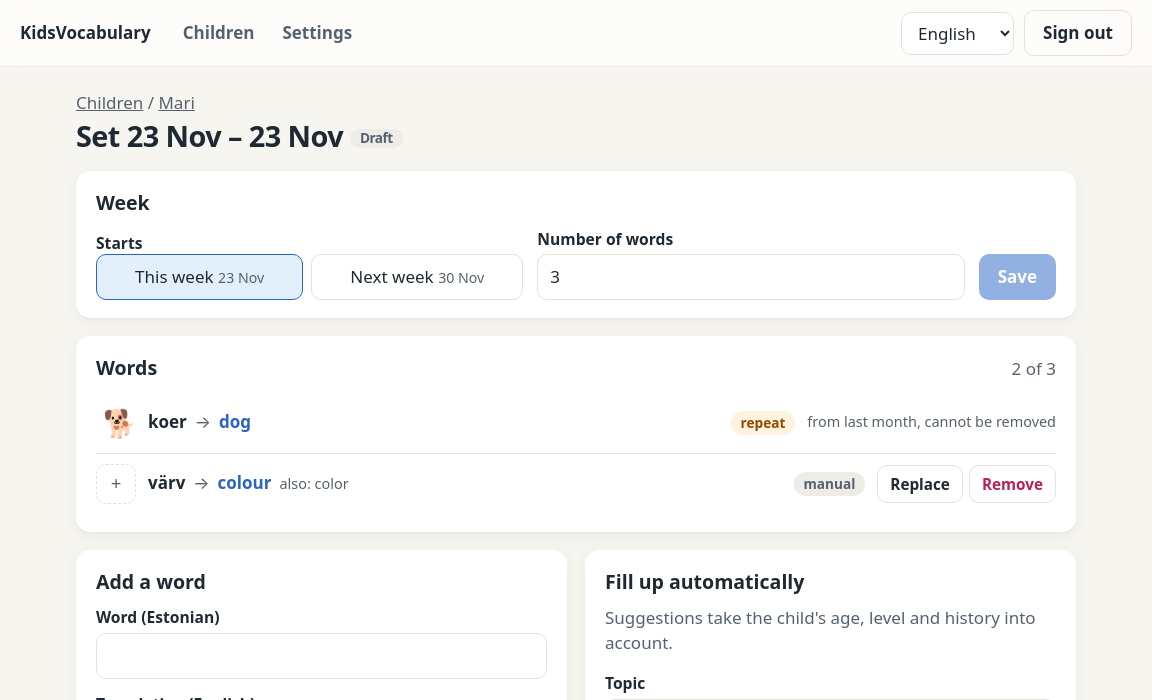
Scenario: App › week builder › adds a word with extra spellings and then allows launching
Type "hall" into the field labelled "Word (Estonian)" at {"x": 322, "y": 656}, box [96,633,547,679]
(page scrolled)
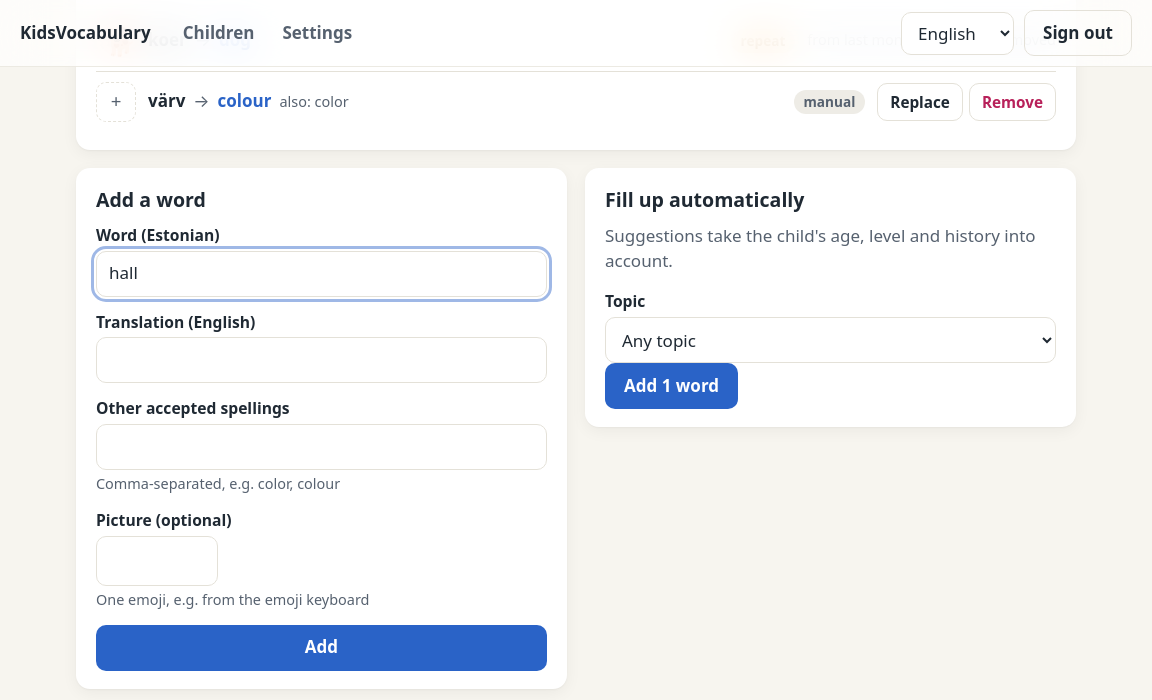
Type "grey" into the field labelled "Translation (English)" at {"x": 322, "y": 360}, box [96,337,547,383]
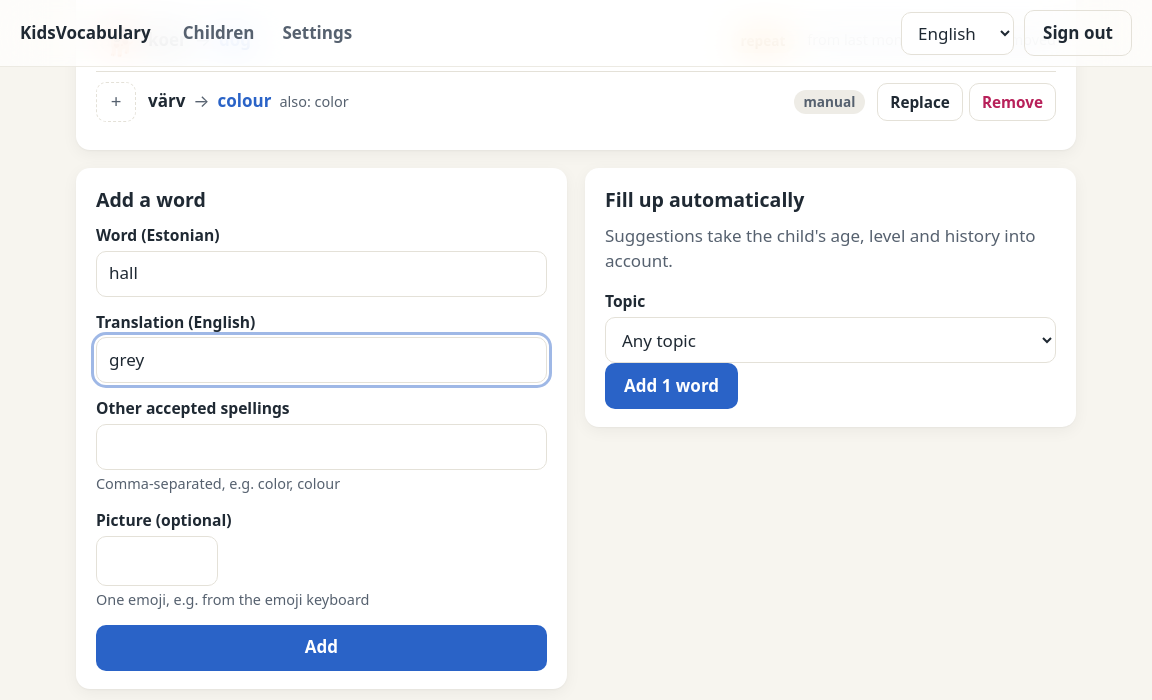
Type "gray, " into the field labelled "Other accepted spellings" at {"x": 322, "y": 447}, box [96,424,547,470]
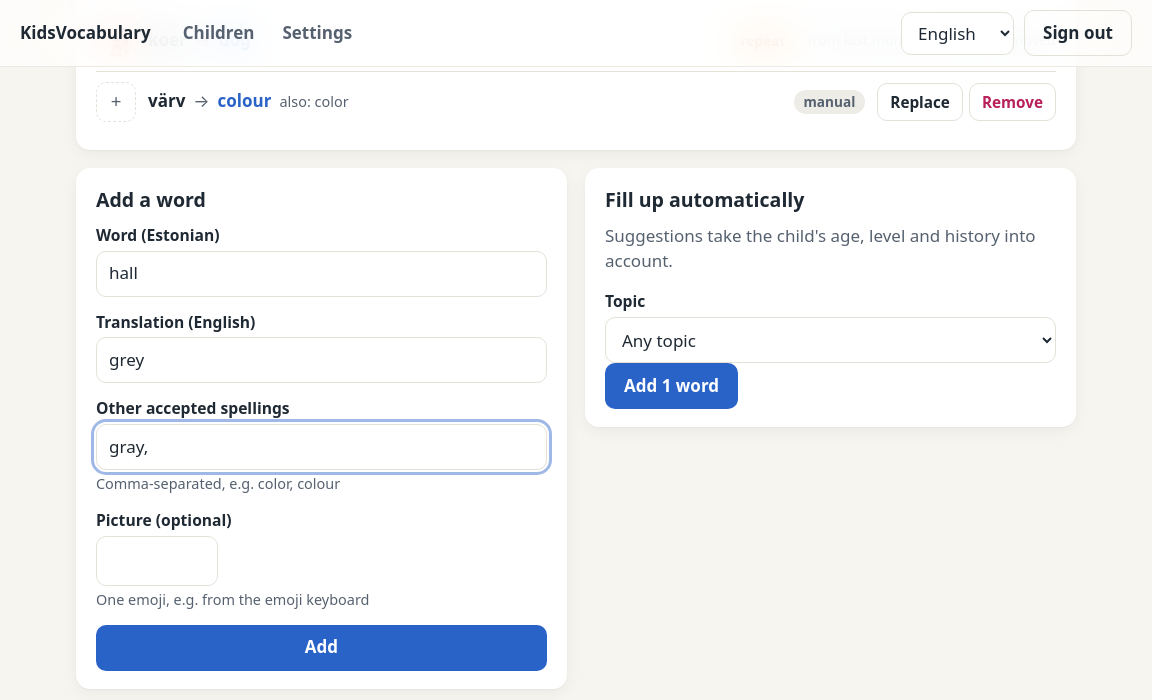
Click the button "Add" at {"x": 322, "y": 648}, box [96,625,547,671]
(page scrolled)
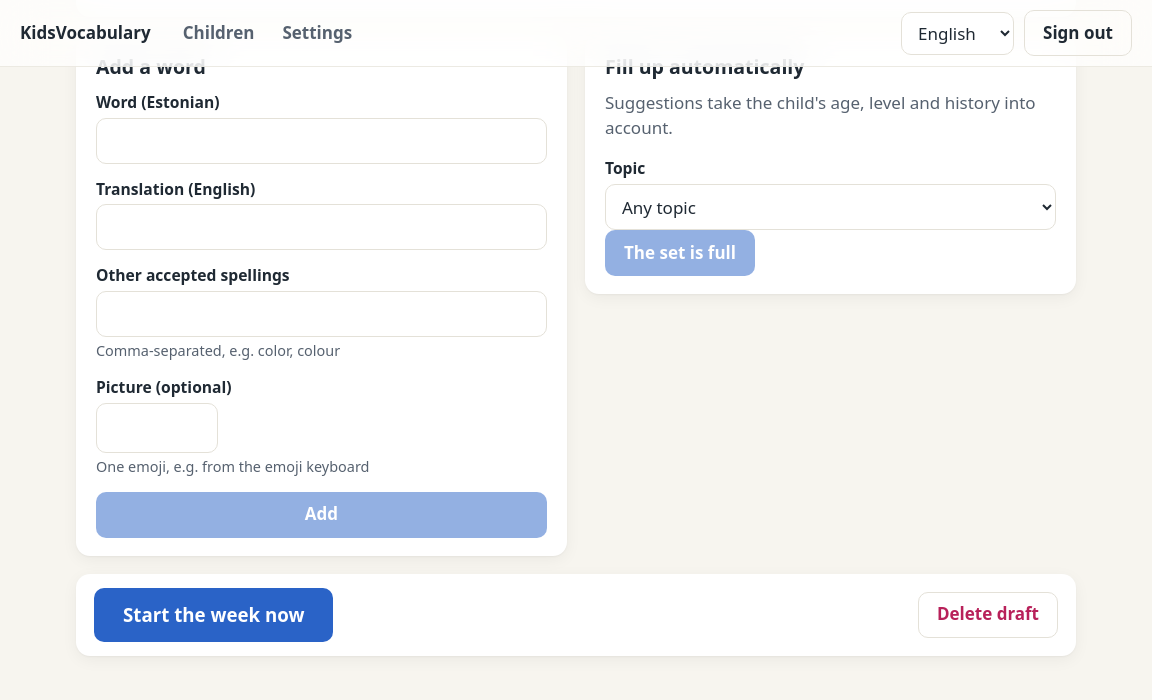
Click the button "Start the week now" at {"x": 214, "y": 615}, box [94,588,333,642]
(page scrolled)
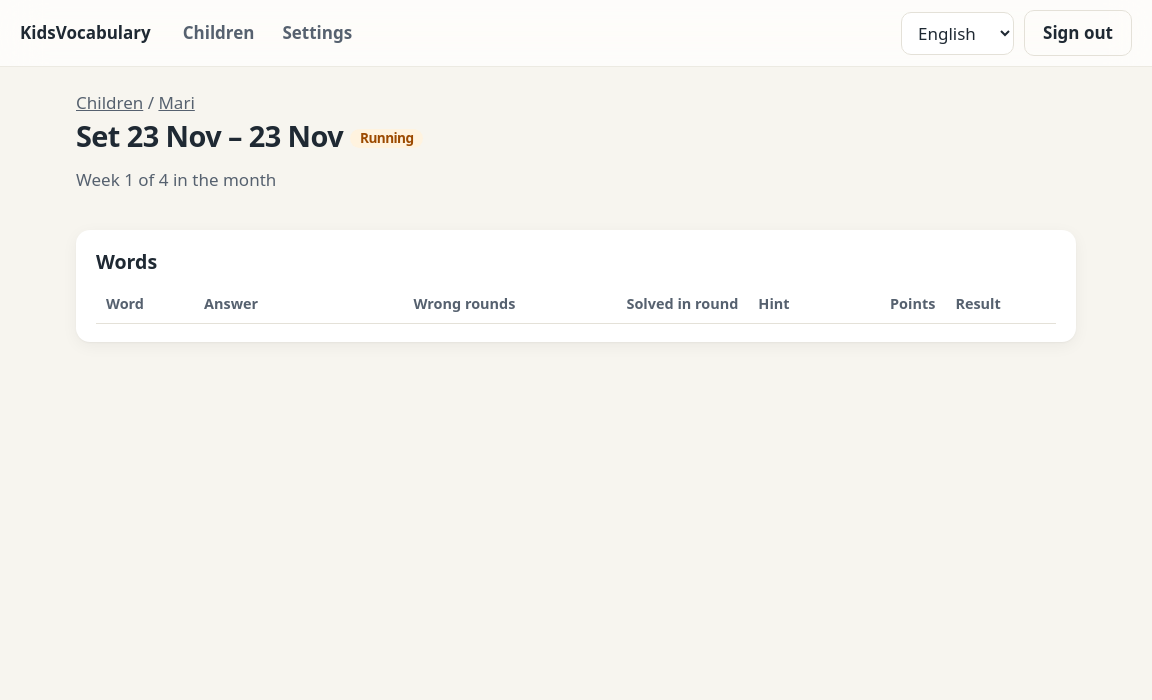
Expected: the text "Running" is shown, [350,129,424,148]
